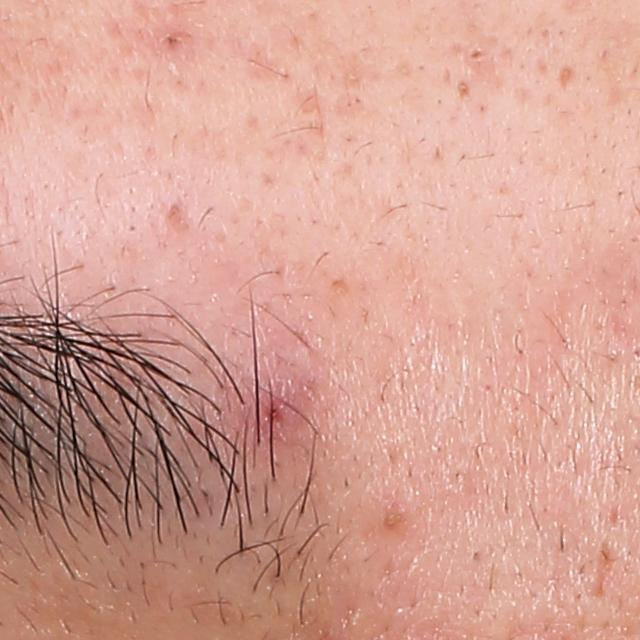atrophic_scar: (588, 535, 623, 600), (556, 61, 577, 94)
comedo: (464, 42, 488, 66), (452, 77, 473, 104)
